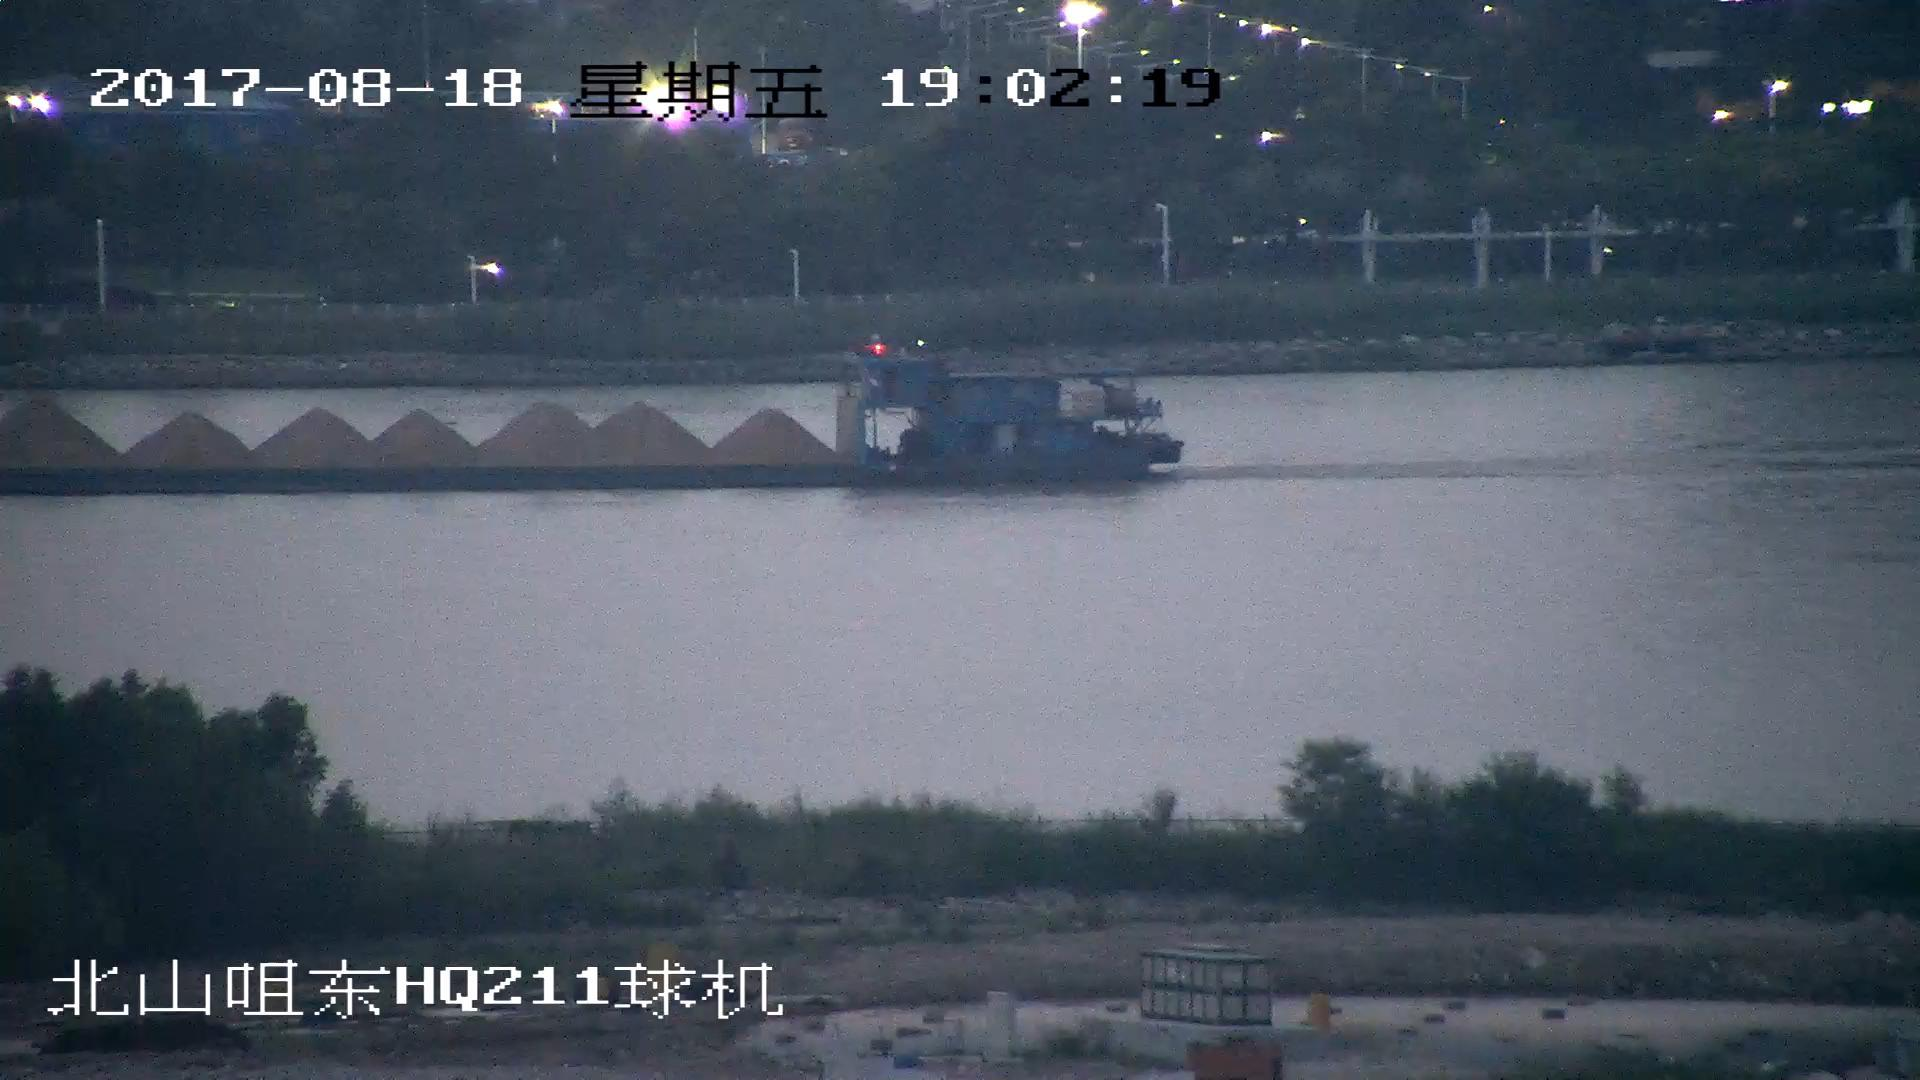Ship: (3, 334, 1188, 495)
